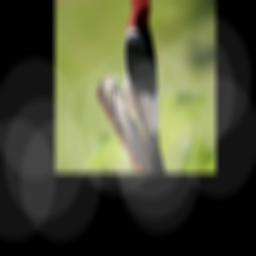Woodpecker: (117, 0, 167, 173)
